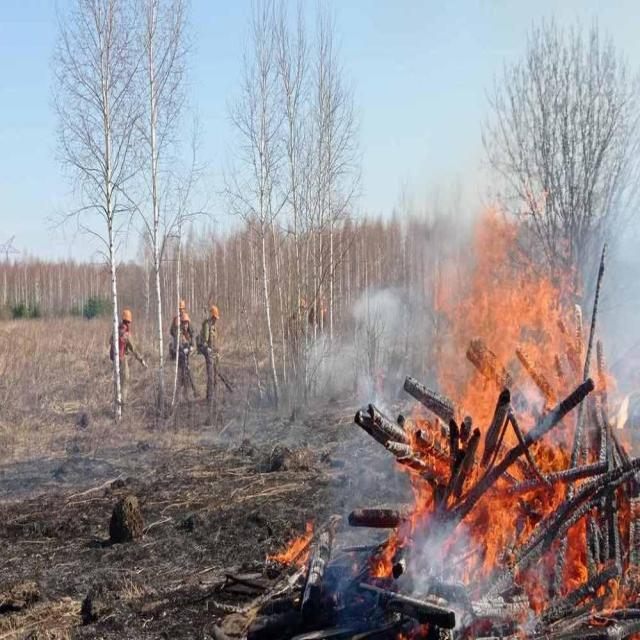Fire: (372, 202, 628, 624), (266, 522, 312, 568)
Smoke: (306, 136, 640, 616)
